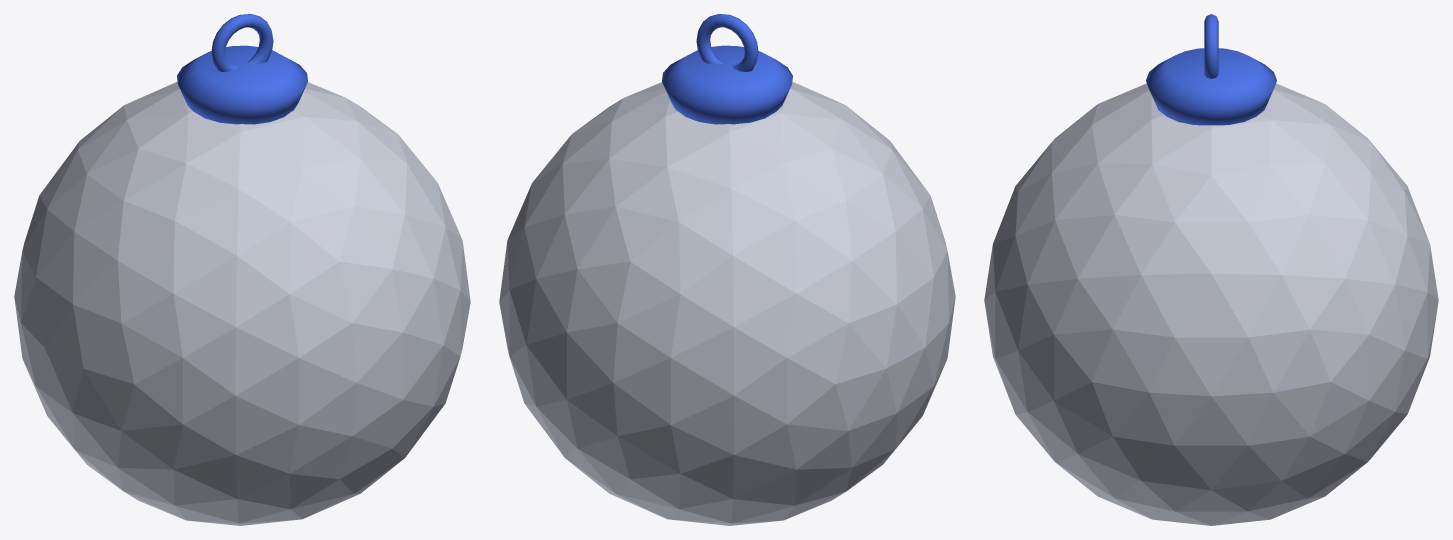
File: LastDancerMirrorBall.obj
The picture shows the model from 3 angles, left to right: view 1: azimuth 30°, elevation 25°; view 2: azimuth 150°, elevation 25°; view 3: azimuth 270°, elevation 25°; orthographic projection.
Visible parts, largest first — view 1: Ball, Cap; view 2: Ball, Cap; view 3: Ball, Cap.
Part boxes in pixels (x1,y1,x2,y2): Ball: (14,81,470,525); Cap: (177,14,307,124); Ball: (499,81,955,525); Cap: (662,14,792,124); Ball: (984,83,1438,525); Cap: (1146,14,1276,125).
Bounding box in the file's own units: 9 × 10.69 × 9.
